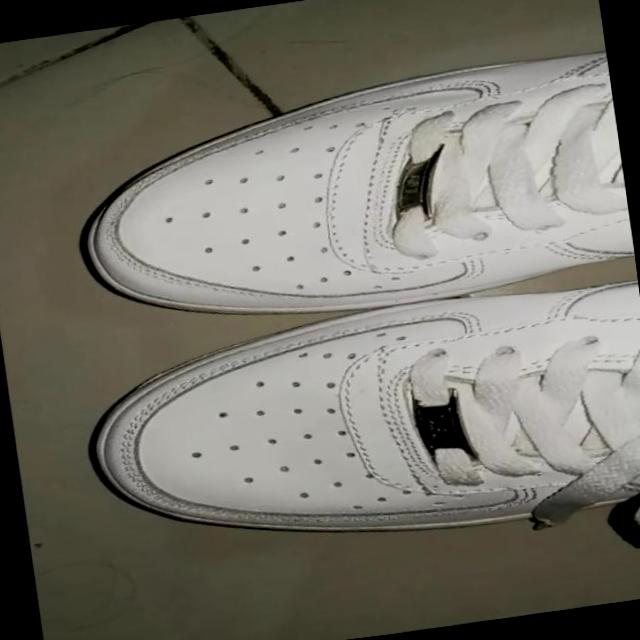nike_fake_airforce: (71, 270, 640, 582), (61, 44, 634, 348)
